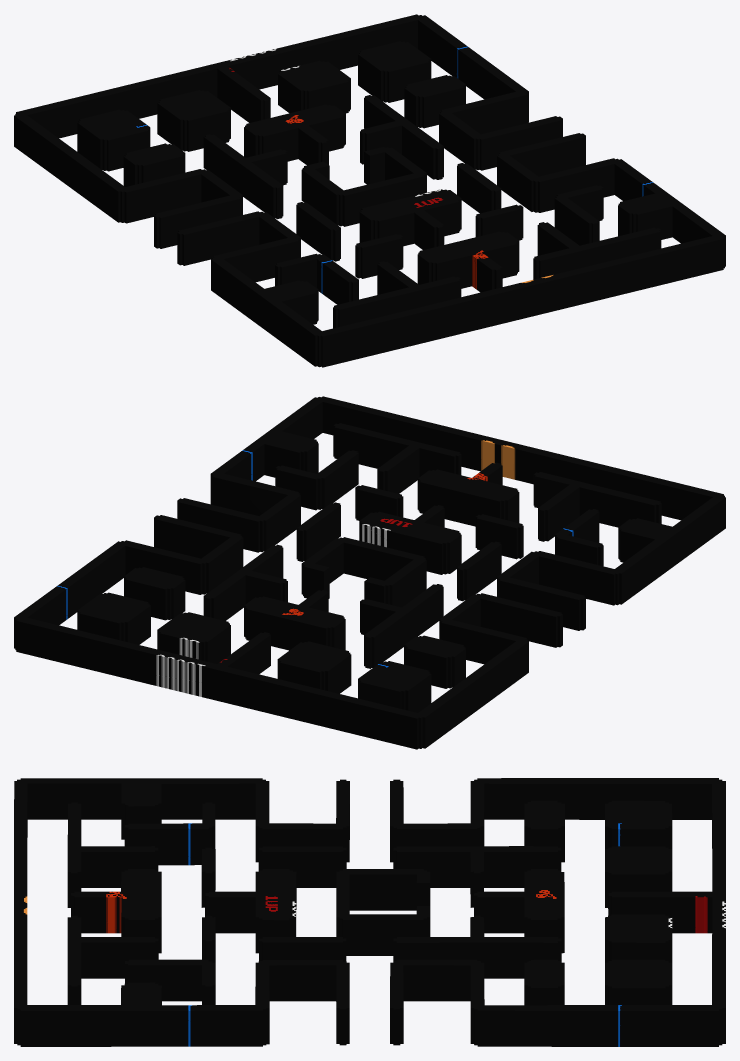
Rendered from map.dae.
3 views of the same model, one above another, from view 1: azimuth 30°, elevation 25°; view 2: azimuth 150°, elevation 25°; view 3: azimuth 270°, elevation 25° (orthographic). The views are drawn at different scales.
Visible parts, largest first — view 1: _13.2.163.0; view 2: _13.2.163.0; view 3: _13.2.163.0.
Boxes of the visible parts, left/top/right/bottom form: _13.2.163.0: left=14, top=14, right=725, bottom=367; _13.2.163.0: left=14, top=396, right=725, bottom=749; _13.2.163.0: left=14, top=778, right=725, bottom=1046.
Bounding box in the file's own units: 91.13 × 118 × 6.56.
